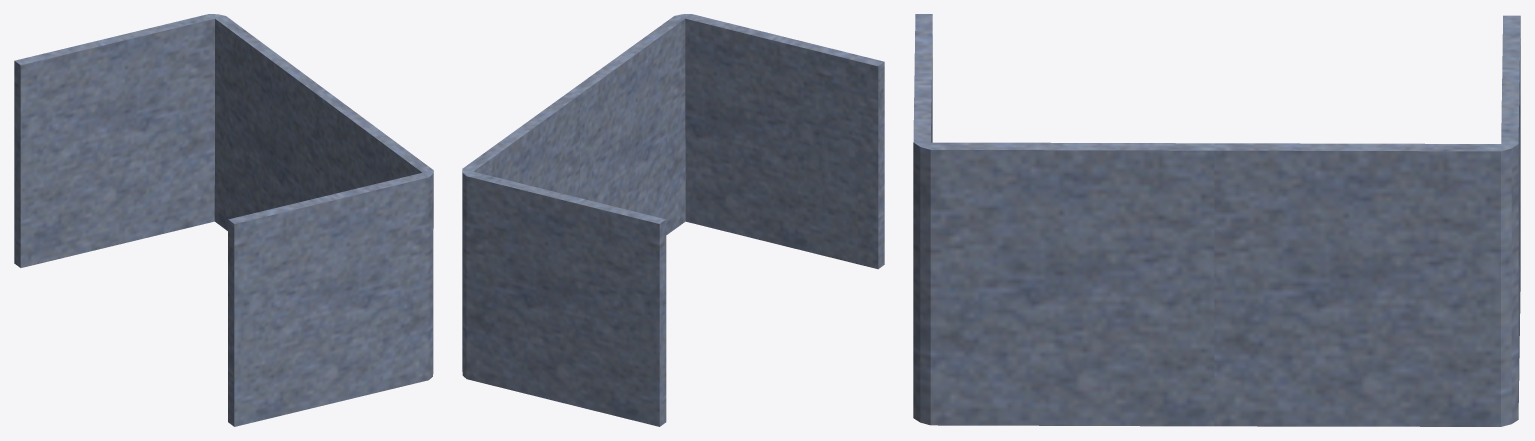
Rendered from dividers_06.fbx.
The picture shows the model from 3 angles, left to right: view 1: azimuth 30°, elevation 25°; view 2: azimuth 150°, elevation 25°; view 3: azimuth 270°, elevation 25°; orthographic projection. The views are drawn at different scales.
Visible parts, largest first — view 1: divider_full_c_blue; view 2: divider_full_c_blue; view 3: divider_full_c_blue.
Part boxes in pixels (x1=…): divider_full_c_blue: x1=14, y1=14, x2=433, y2=426; divider_full_c_blue: x1=462, y1=14, x2=884, y2=426; divider_full_c_blue: x1=913, y1=14, x2=1520, y2=426.
Size of the model in its own units: 160 by 150 by 300.
